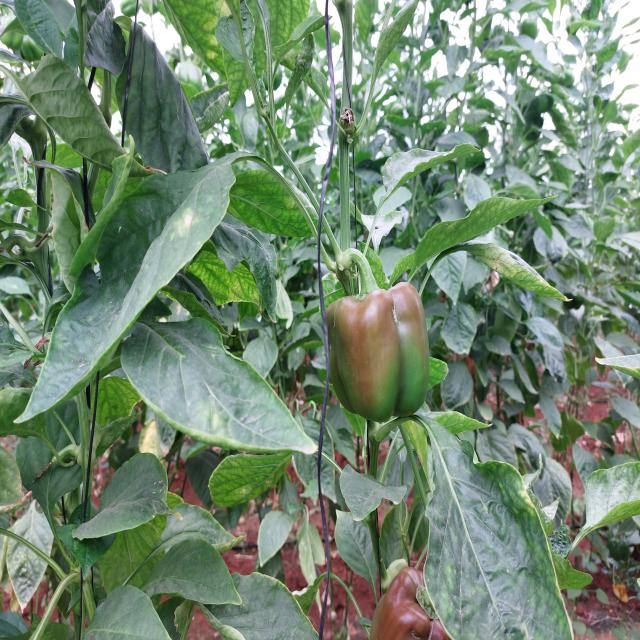BrownishRed--Can-be-Harvested: (331, 298, 432, 419)
